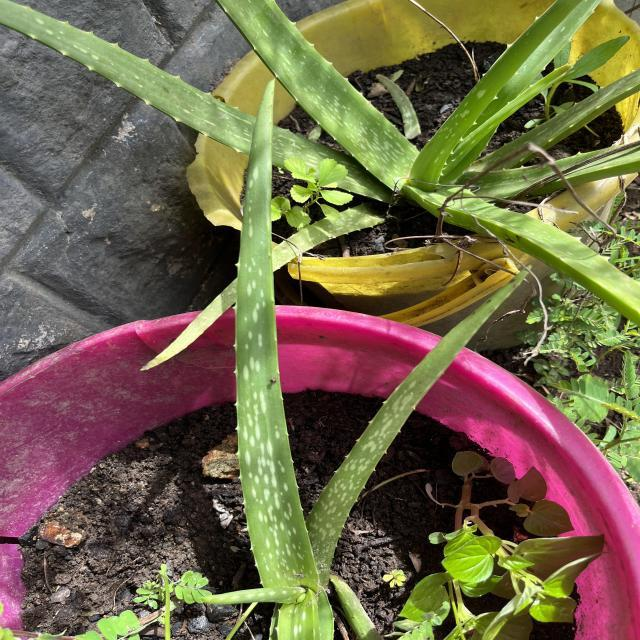Aloe vera: (231, 67, 330, 600)
